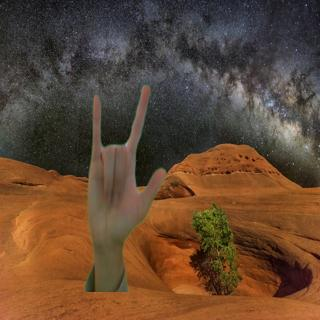ILY: (82, 82, 169, 256)
